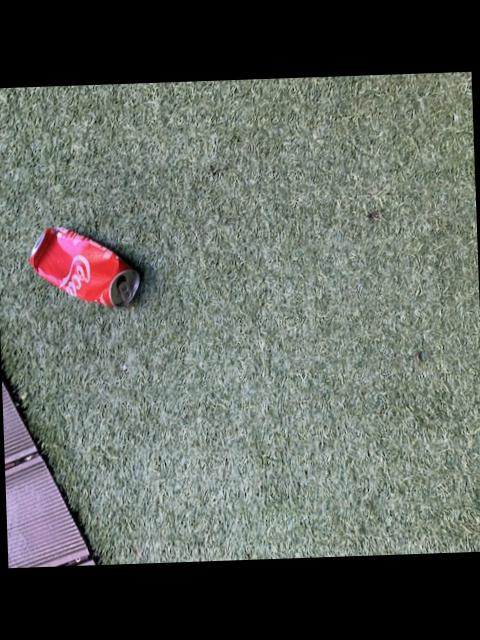metal: (30, 226, 140, 305)
